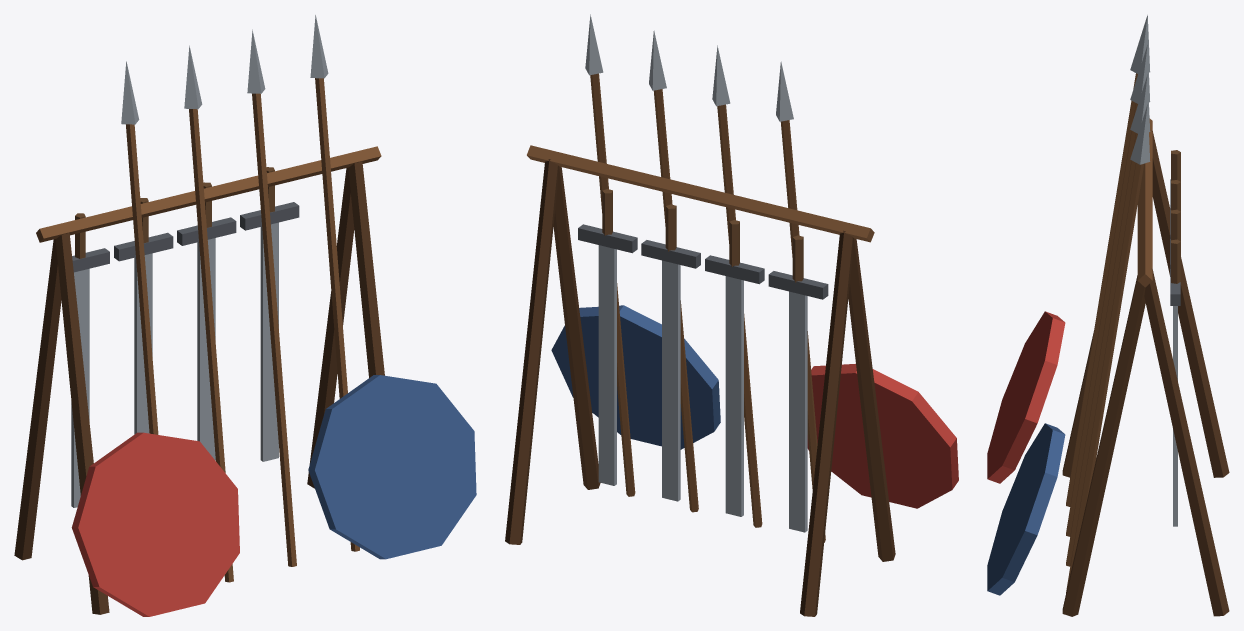
File: pile_weapons_3.glb
The picture shows the model from 3 angles, left to right: view 1: azimuth 30°, elevation 25°; view 2: azimuth 150°, elevation 25°; view 3: azimuth 270°, elevation 25°; orthographic projection. The views are drawn at different scales.
Parts seen in each view (by area): view 1: pile_weapons_3; view 2: pile_weapons_3; view 3: pile_weapons_3.
Part boxes in pixels (x1,y1,x2,y2): pile_weapons_3: (14,15,476,616); pile_weapons_3: (505,14,958,616); pile_weapons_3: (987,15,1229,616).
Size of the model in its own units: 1.76 by 2.16 by 0.96.
